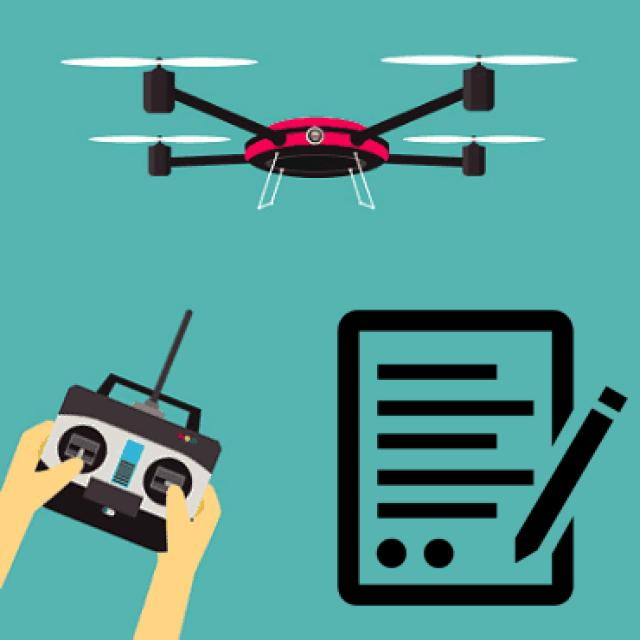drone: (46, 45, 604, 219)
